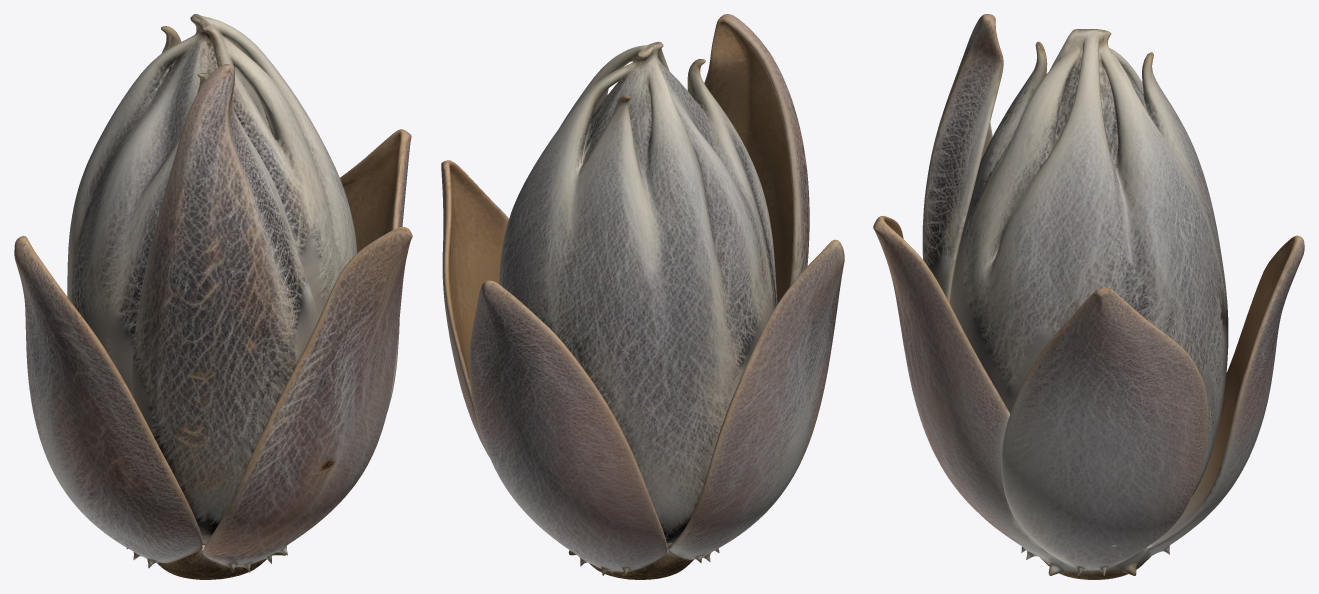
The model's file is xinyi.glb.
3 views of the same model, side by side, from view 1: azimuth 30°, elevation 25°; view 2: azimuth 150°, elevation 25°; view 3: azimuth 270°, elevation 25° (orthographic). The views are drawn at different scales.
Parts seen in each view (by area): view 1: node_0; view 2: node_0; view 3: node_0.
Boxes of the visible parts, bbox=[...] form: node_0: bbox=[14, 14, 412, 579]; node_0: bbox=[441, 14, 844, 579]; node_0: bbox=[873, 14, 1304, 579].
Size of the model in its own units: 0.8832 by 1.12 by 0.834.
Materials: 1 (1 with a texture image).
